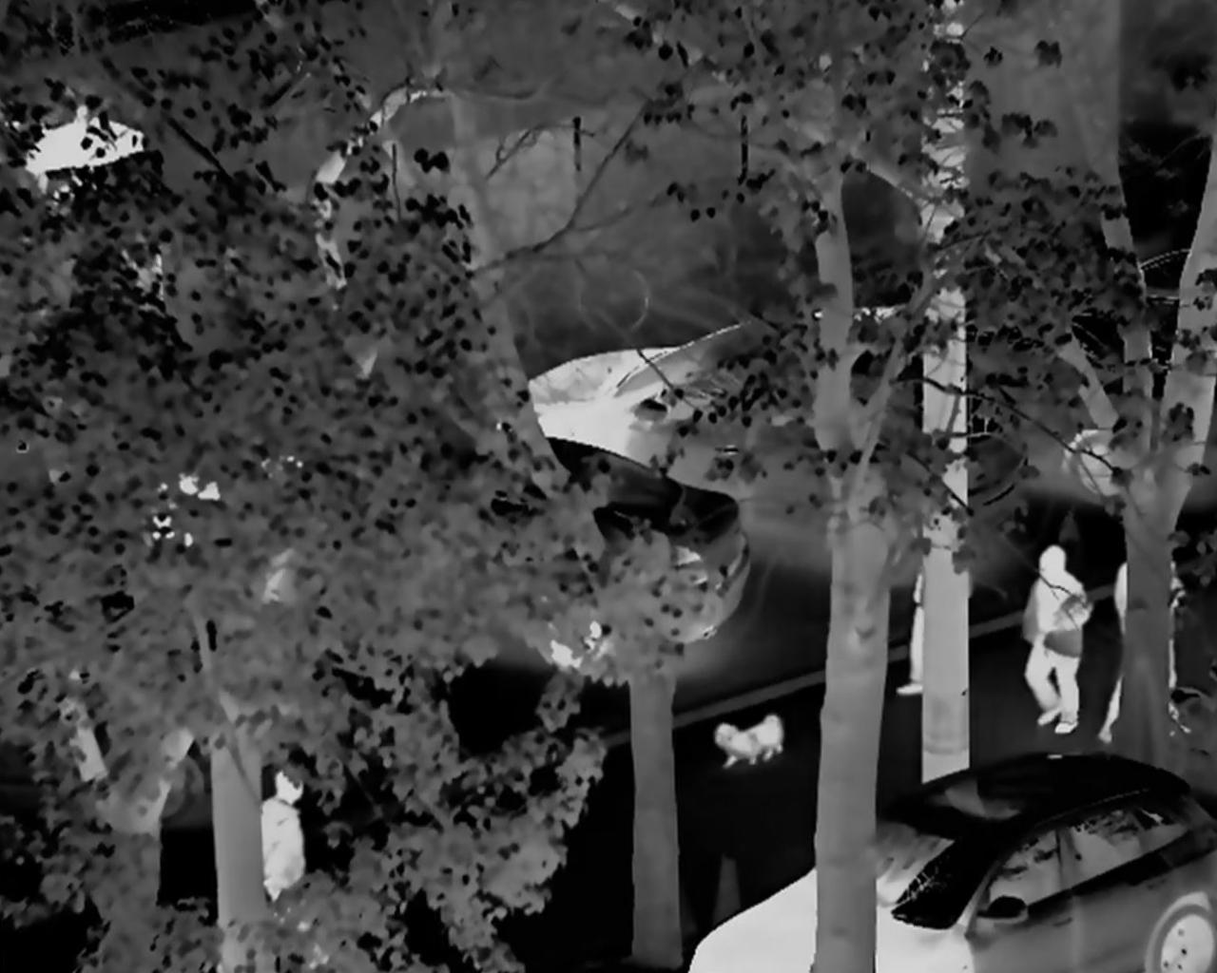person: (1095, 544, 1186, 744), (257, 767, 331, 971), (1020, 547, 1092, 740), (891, 551, 962, 700)
